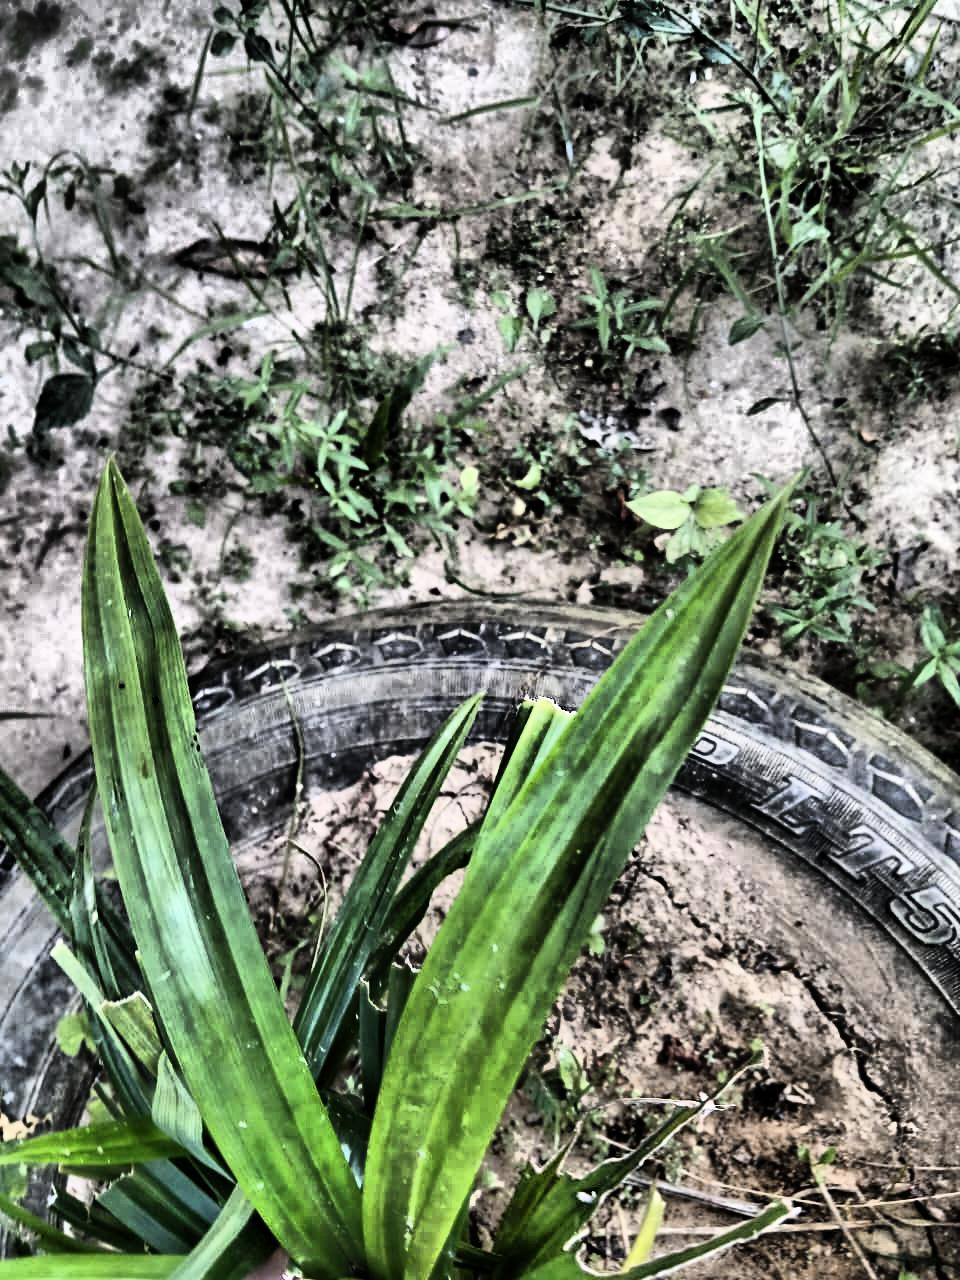daun pandan: (0, 462, 787, 1279)
